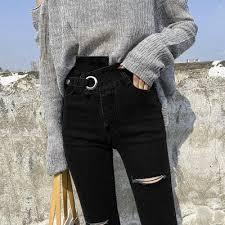pants: (62, 75, 174, 225)
sweater: (34, 0, 199, 71)
